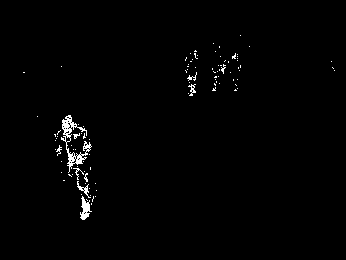person: (53, 115, 95, 220), (184, 48, 200, 97)
